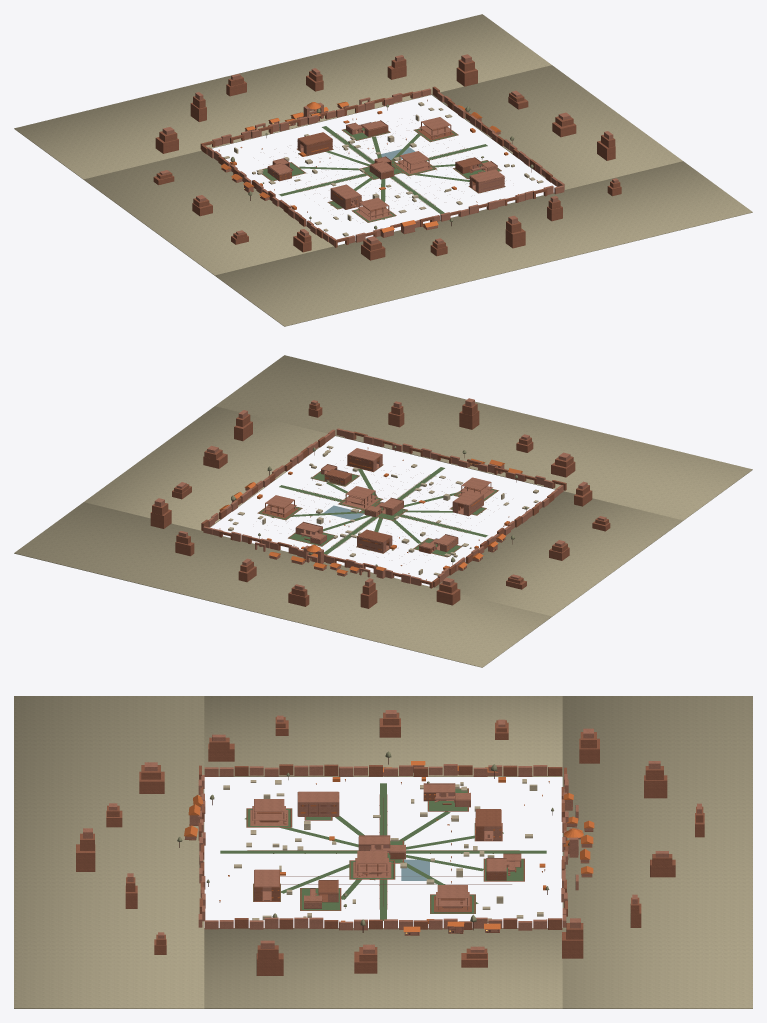
File: nakaniwa-lod1.glb
3 renders of one model, top to bottom at view 1: azimuth 30°, elevation 25°; view 2: azimuth 150°, elevation 25°; view 3: azimuth 270°, elevation 25°, orthographic. The views are drawn at different scales.
Parts seen in each view (by area): view 1: HB_nakaniwa_LOD1_terrain, HB_nakaniwa_LOD1_wall_alt, HB_nakaniwa_LOD1_wall, HB_nakaniwa_LOD1_road, HB_nakaniwa_LOD1_accent, HB_nakaniwa_LOD1_obstacle; view 2: HB_nakaniwa_LOD1_terrain, HB_nakaniwa_LOD1_wall_alt, HB_nakaniwa_LOD1_wall, HB_nakaniwa_LOD1_road, HB_nakaniwa_LOD1_accent, HB_nakaniwa_LOD1_obstacle; view 3: HB_nakaniwa_LOD1_terrain, HB_nakaniwa_LOD1_wall, HB_nakaniwa_LOD1_wall_alt, HB_nakaniwa_LOD1_road, HB_nakaniwa_LOD1_accent, HB_nakaniwa_LOD1_obstacle, HB_nakaniwa_LOD1_trim.
Part boxes in pixels (box(x1,y1,x2,y2)): HB_nakaniwa_LOD1_terrain: box(14, 14, 752, 326); HB_nakaniwa_LOD1_wall_alt: box(153, 58, 621, 260); HB_nakaniwa_LOD1_wall: box(159, 54, 618, 245); HB_nakaniwa_LOD1_road: box(262, 126, 505, 222); HB_nakaniwa_LOD1_accent: box(219, 99, 537, 232); HB_nakaniwa_LOD1_obstacle: box(223, 102, 543, 236); HB_nakaniwa_LOD1_terrain: box(14, 355, 752, 667); HB_nakaniwa_LOD1_wall_alt: box(150, 403, 610, 608); HB_nakaniwa_LOD1_wall: box(154, 398, 606, 590); HB_nakaniwa_LOD1_road: box(259, 465, 497, 556); HB_nakaniwa_LOD1_accent: box(219, 447, 522, 579); HB_nakaniwa_LOD1_obstacle: box(228, 445, 538, 575); HB_nakaniwa_LOD1_terrain: box(14, 696, 752, 1008); HB_nakaniwa_LOD1_wall: box(83, 710, 701, 953); HB_nakaniwa_LOD1_wall_alt: box(76, 712, 704, 975); HB_nakaniwa_LOD1_road: box(220, 783, 546, 920); HB_nakaniwa_LOD1_accent: box(184, 761, 594, 931); HB_nakaniwa_LOD1_obstacle: box(223, 779, 543, 922); HB_nakaniwa_LOD1_trim: box(179, 757, 584, 934).
Size of the model in its own units: 660 by 36.68 by 660.
11 materials, 8 textured.
